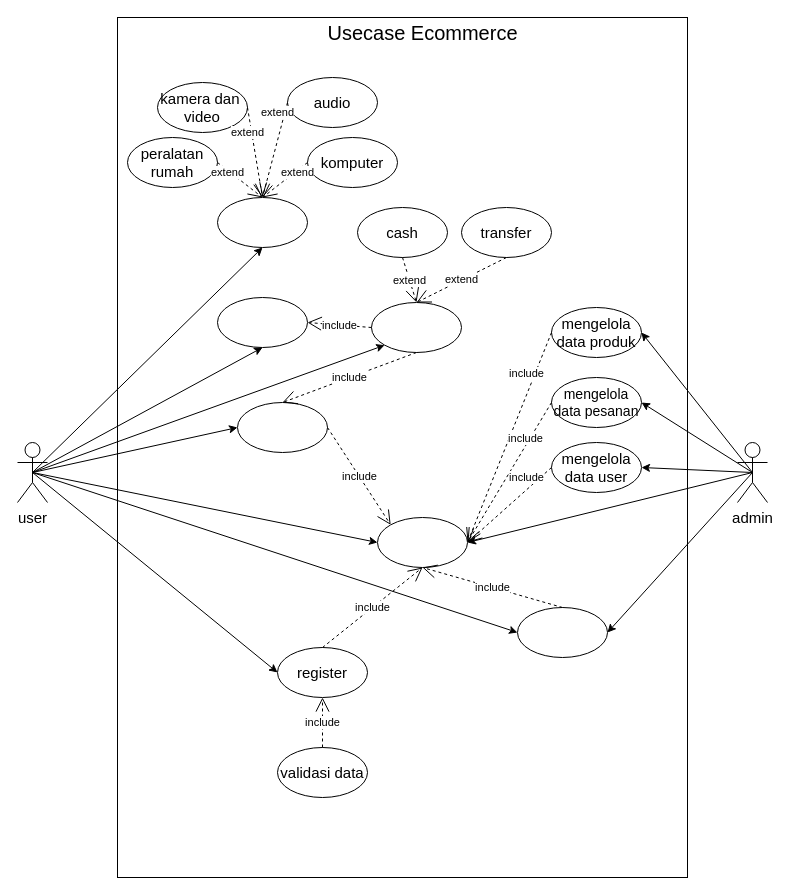
Image size: 790x895. Some labels were removed from this diagram. Here are the shapes that lost their labels. From the top down, the centre of each, then its label:
At pixel 262 222: "melihat katalog".
At pixel 262 322: "memilih pengiriman".
At pixel 416 327: "membayar".
At pixel 282 427: "memilih produk".
At pixel 422 542: "login".
At pixel 562 632: "logout".
